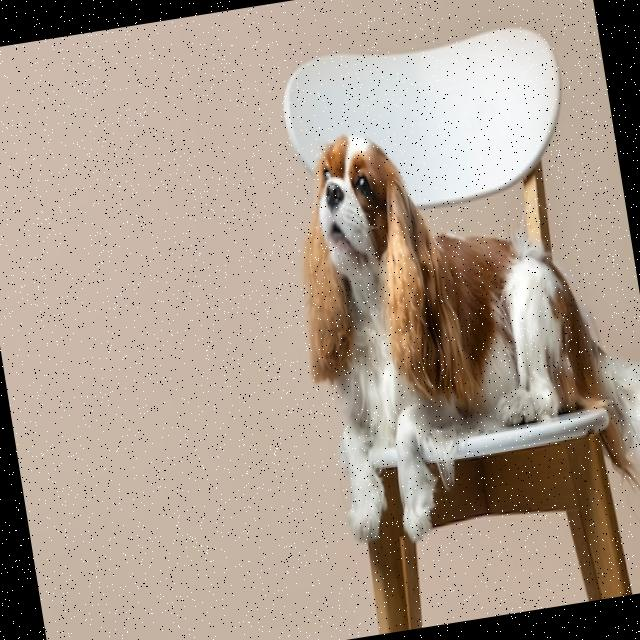Dog: (276, 91, 640, 589)
